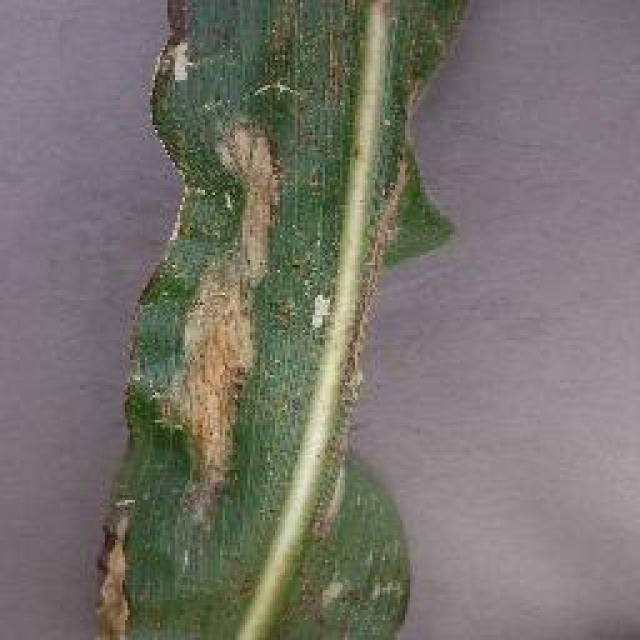Corn___Northern_Leaf_Blight: (75, 0, 503, 638)
